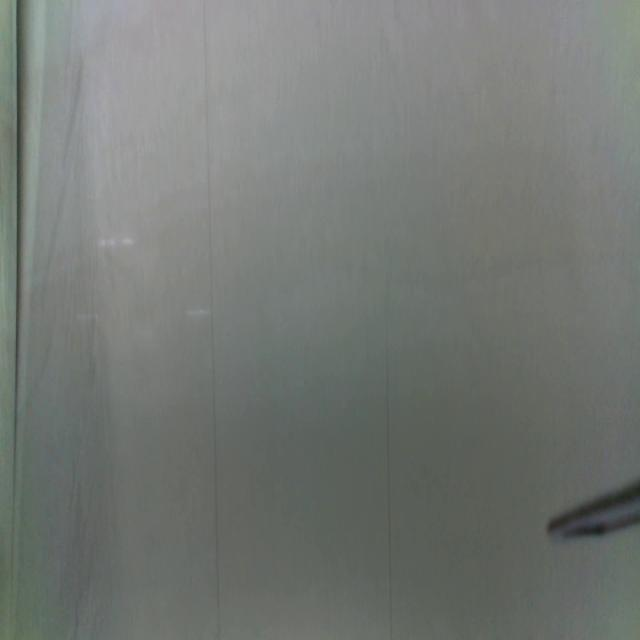crease: (202, 0, 221, 637), (10, 0, 22, 577), (384, 301, 394, 640)
